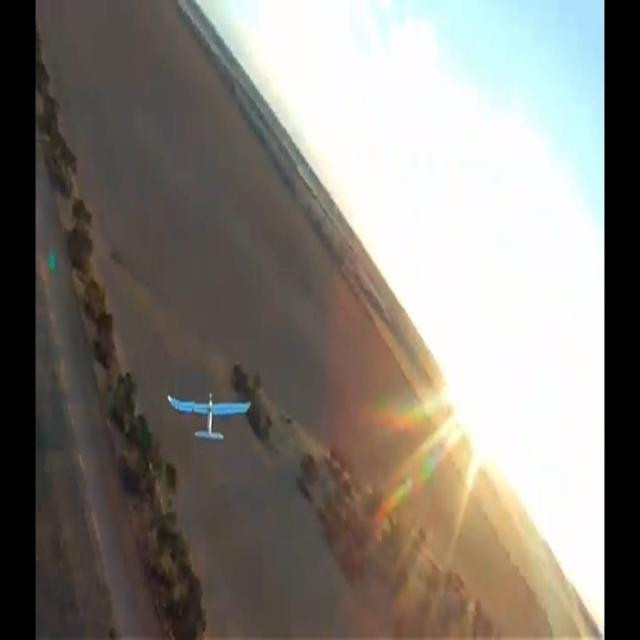iha: (198, 390, 221, 440)
